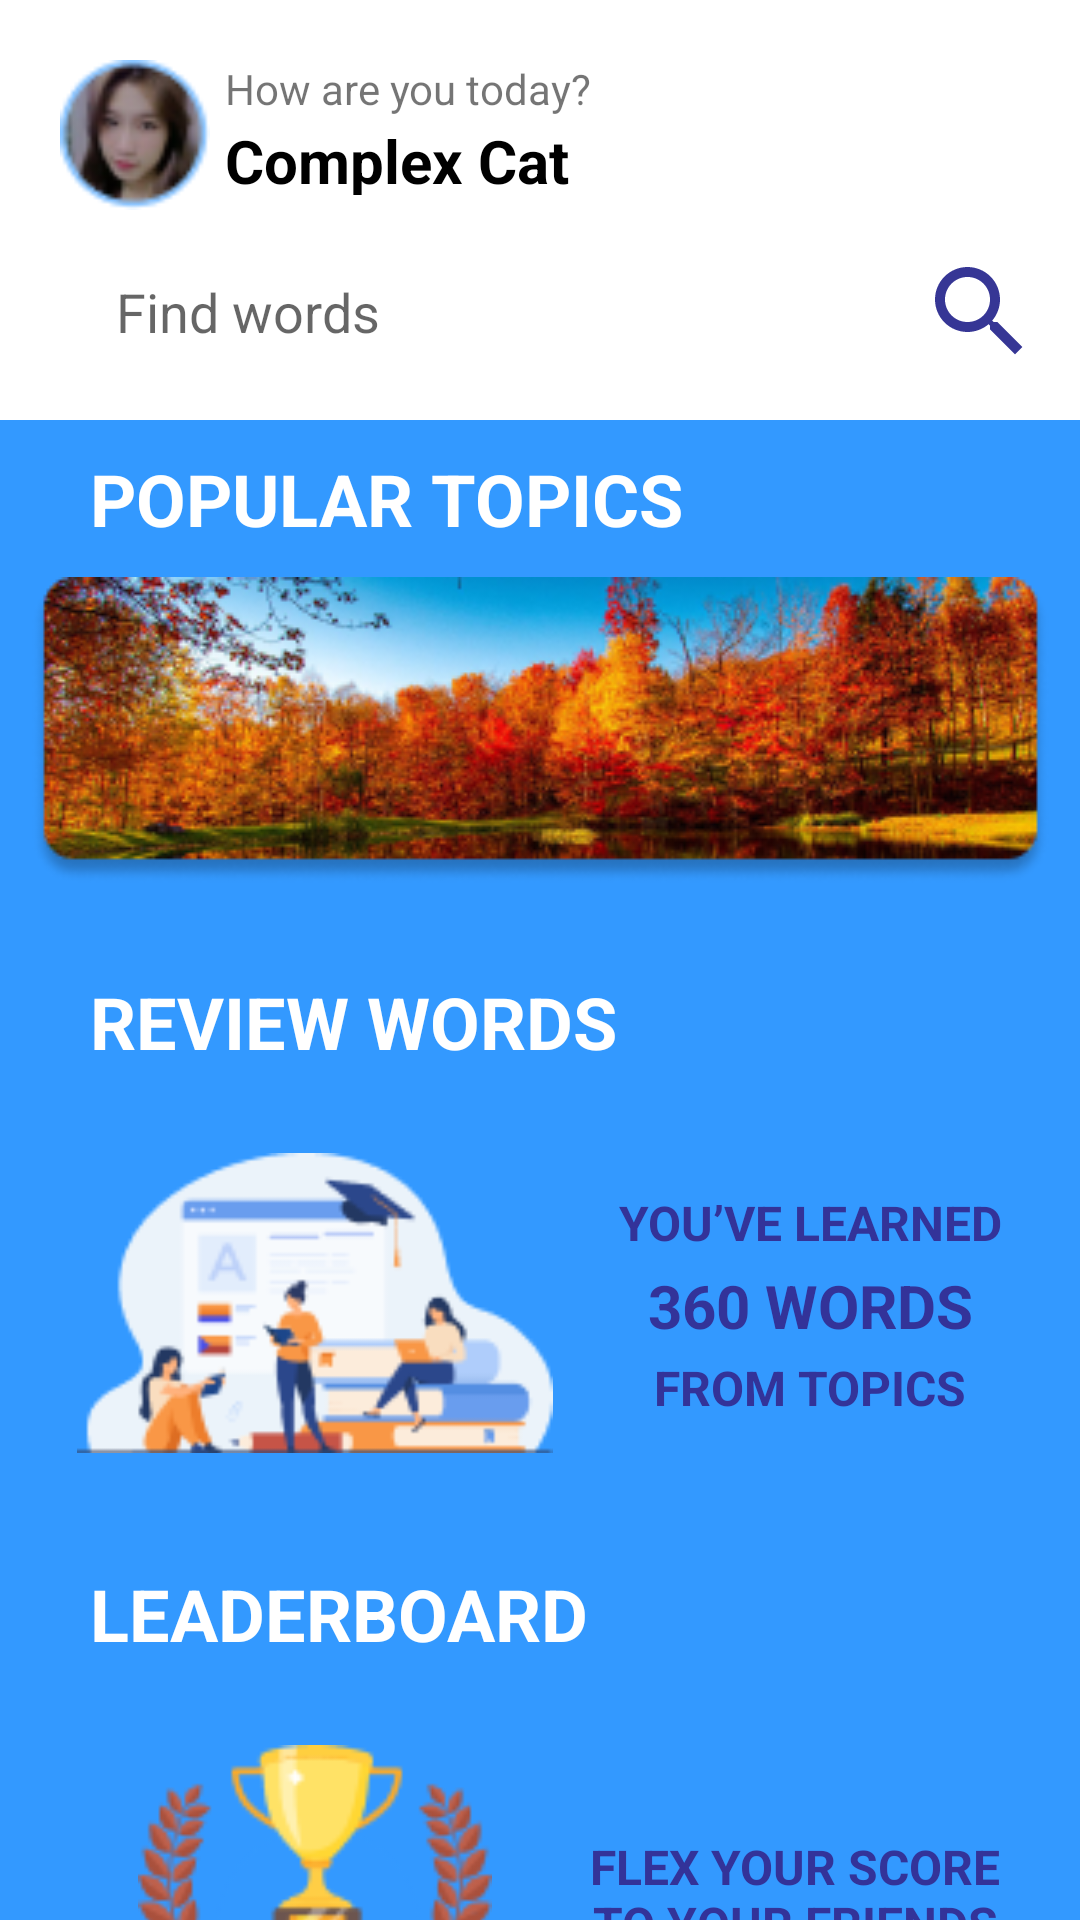

Icons on this 1080px x 1920px Android screen, each with its box as bbox(x1, y1, x2, y2):
avt: bbox(60, 60, 208, 208)
search: bbox(935, 267, 1022, 354)
